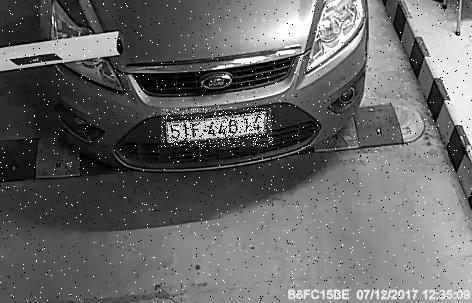License-plate: (163, 109, 275, 148)
